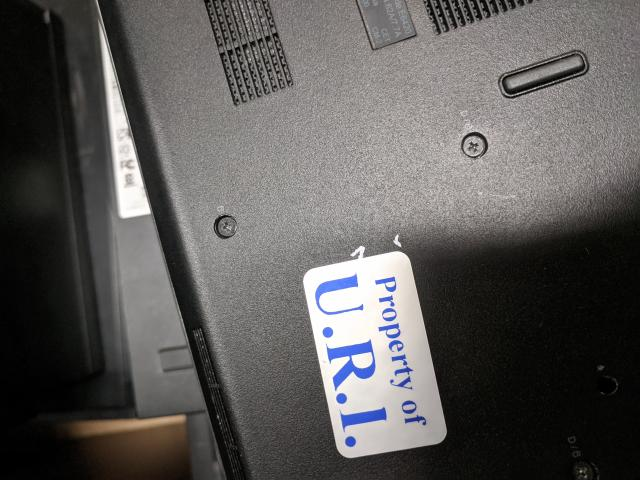CRS: (212, 210, 240, 240), (567, 454, 598, 480), (462, 130, 487, 159)
